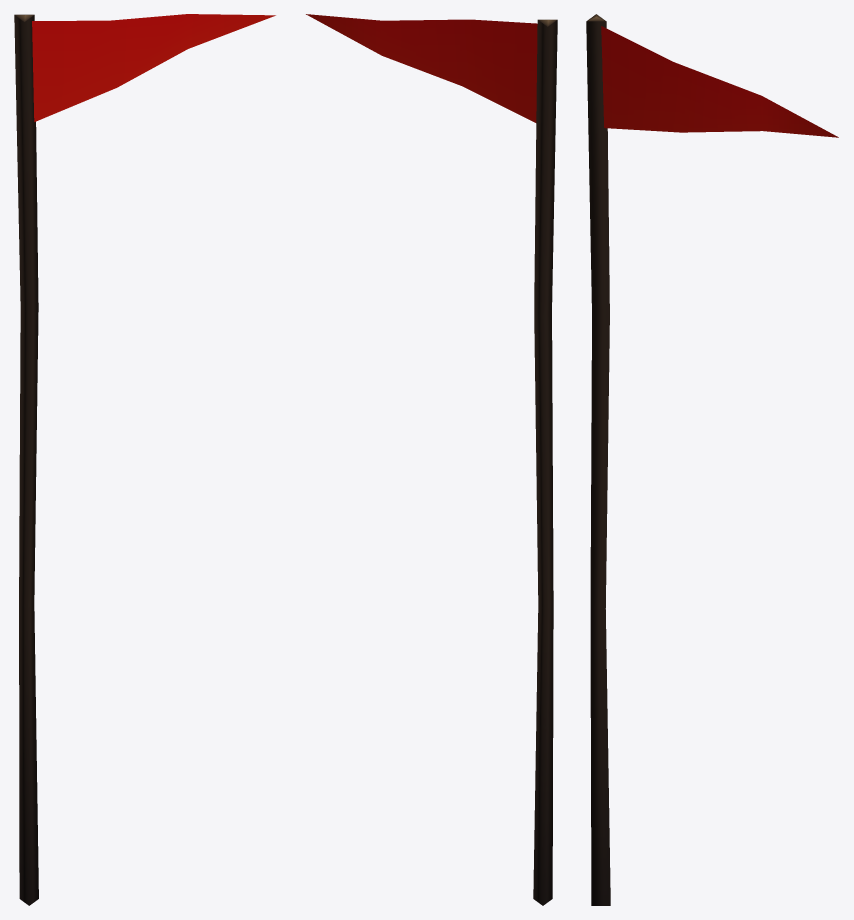
File: SM_PointOfInterest.fbx
3 renders of one model, left to right at view 1: azimuth 30°, elevation 25°; view 2: azimuth 150°, elevation 25°; view 3: azimuth 330°, elevation 25°, orthographic.
Visible parts, largest first — view 1: SM_PointOfInterest; view 2: SM_PointOfInterest; view 3: SM_PointOfInterest.
Boxes of the visible parts, x1,y1,x2,y2 form: SM_PointOfInterest: (14,14,275,905); SM_PointOfInterest: (306,14,557,905); SM_PointOfInterest: (586,14,838,905).
Bounding box in the file's own units: 59.86 × 201 × 4.17.
